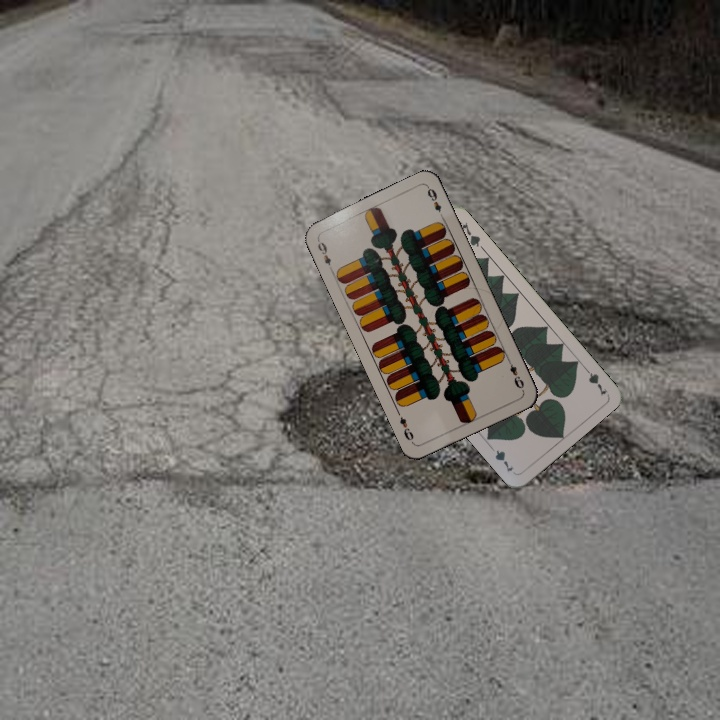E9: (503, 355, 527, 393), (313, 235, 335, 274)
G7: (579, 362, 610, 398)
